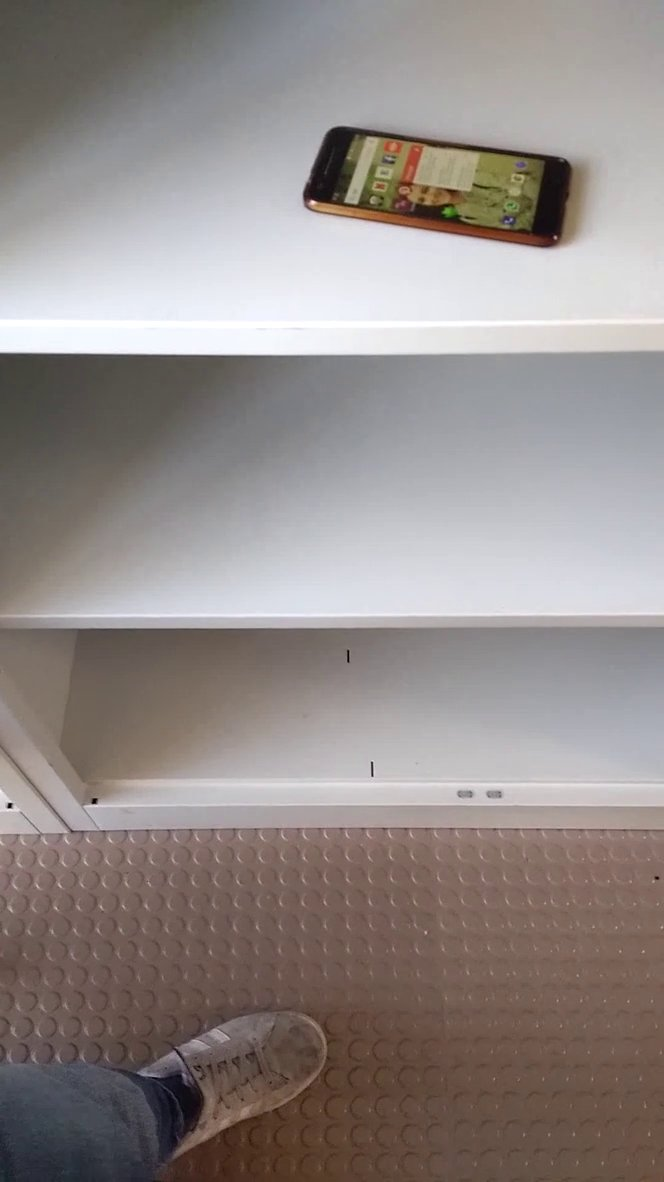phone: (287, 111, 586, 261)
